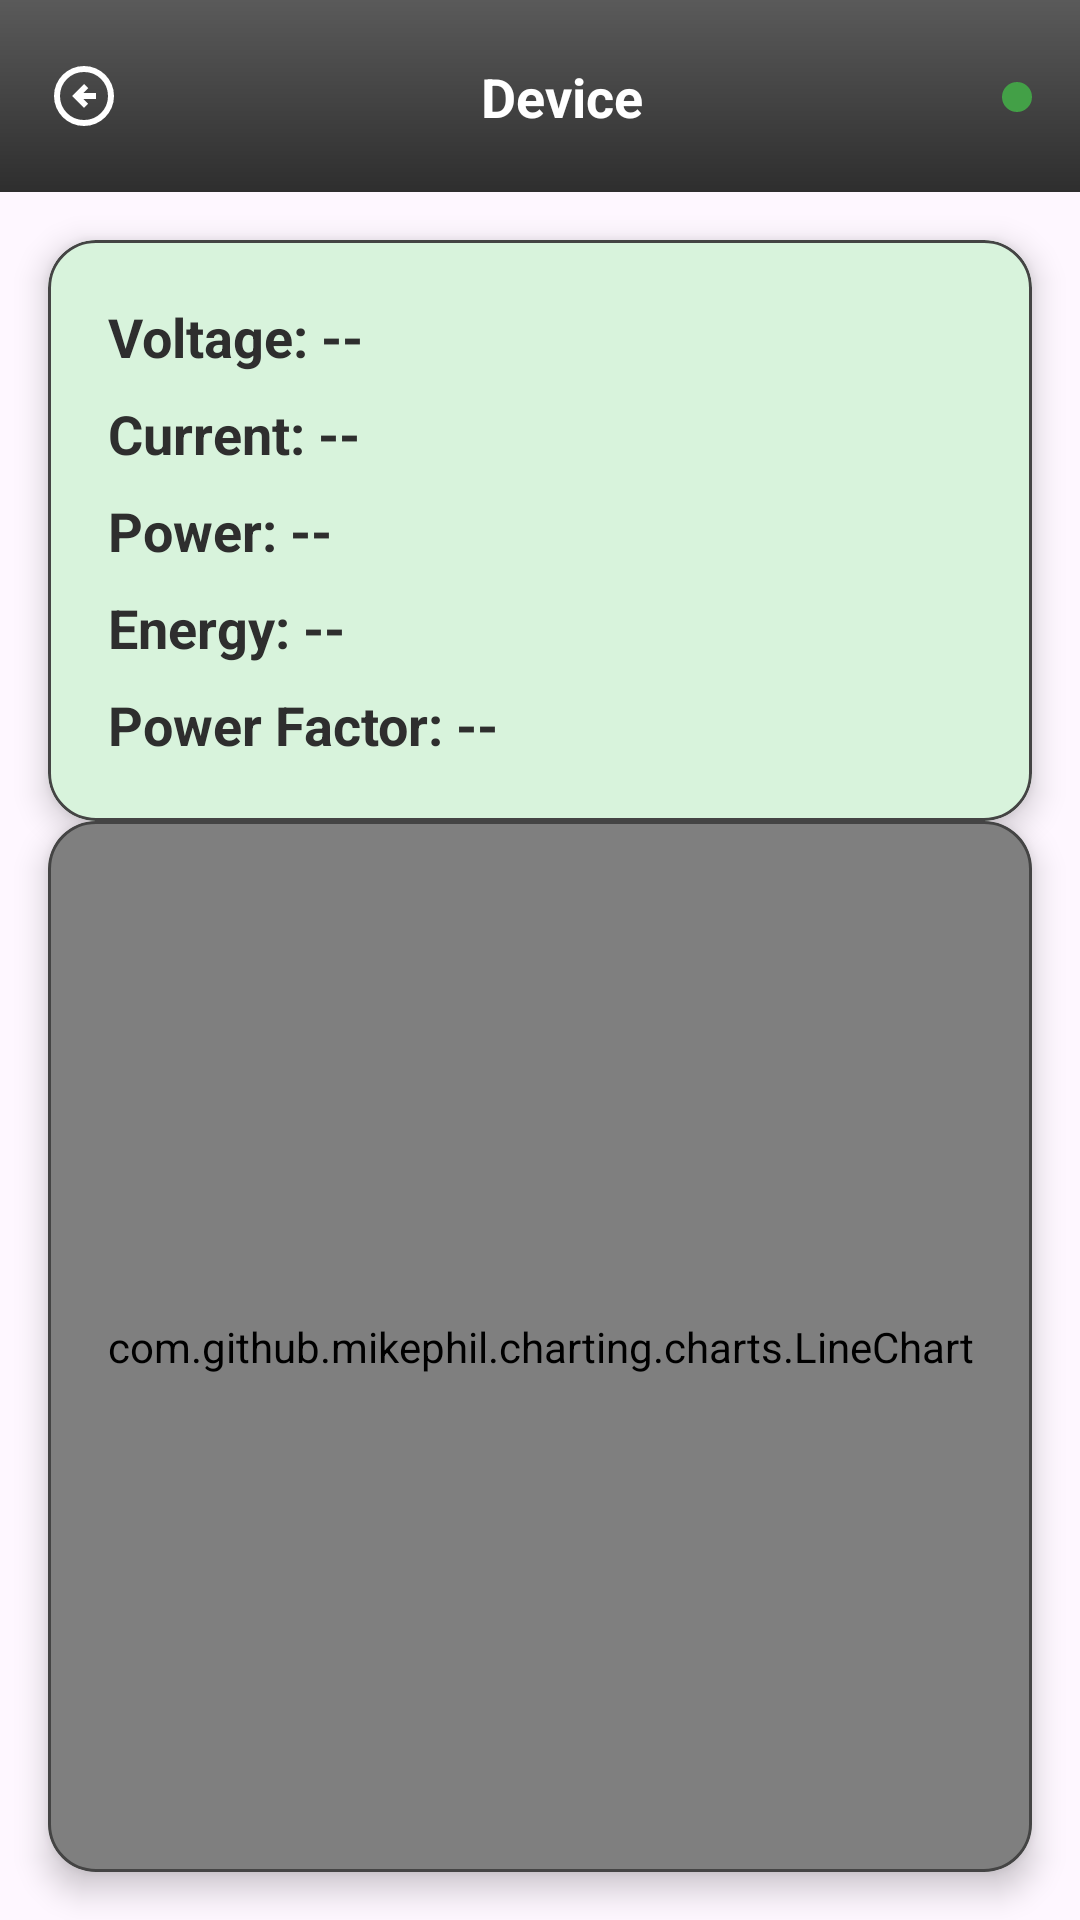

Icon click points for this 1080 x 1920 phone screenshot, format point (x, y):
arrow back: point (84, 96)
